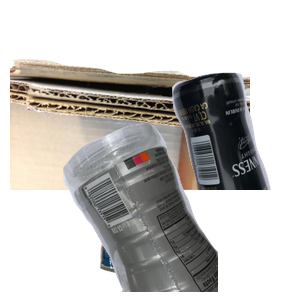cardboard: (10, 57, 250, 237)
glass: (106, 70, 300, 250)
plastic: (60, 120, 300, 300)
trash: (97, 152, 248, 300)
